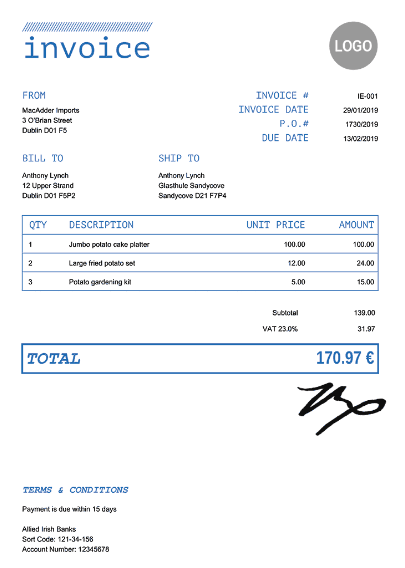Table: (10, 205, 390, 295)
